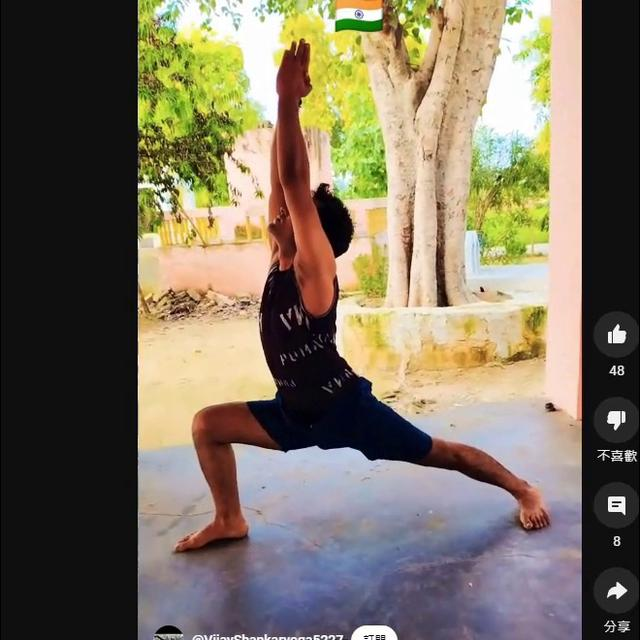Warrior_I: (165, 32, 555, 562)
